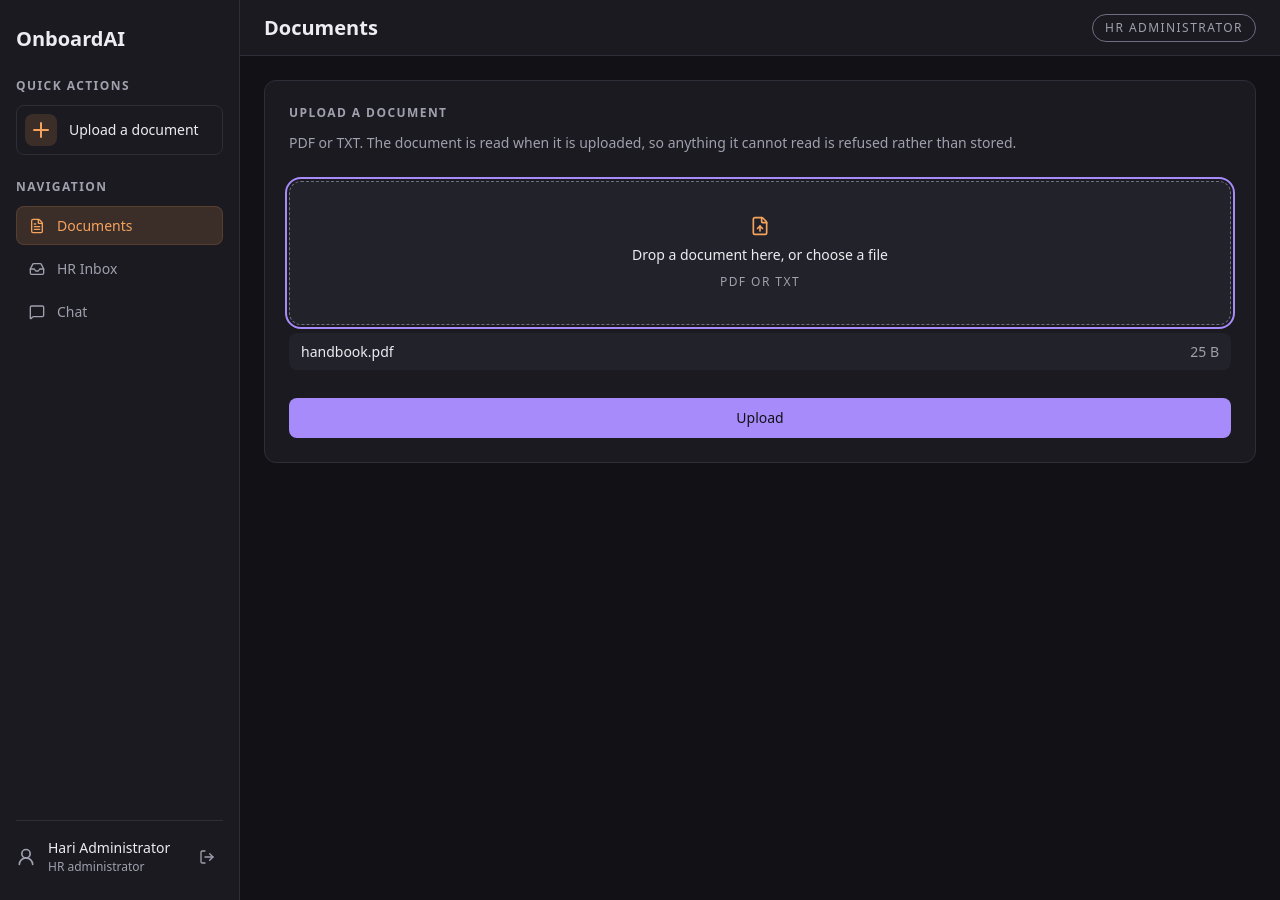
Scenario: once the bytes are up but the server is still reading › is not dragged back by a late progress event
Earlier steps of the test are not shown.
Click the button "Upload": point(760, 418) x1=289 y1=398 x2=1231 y2=438
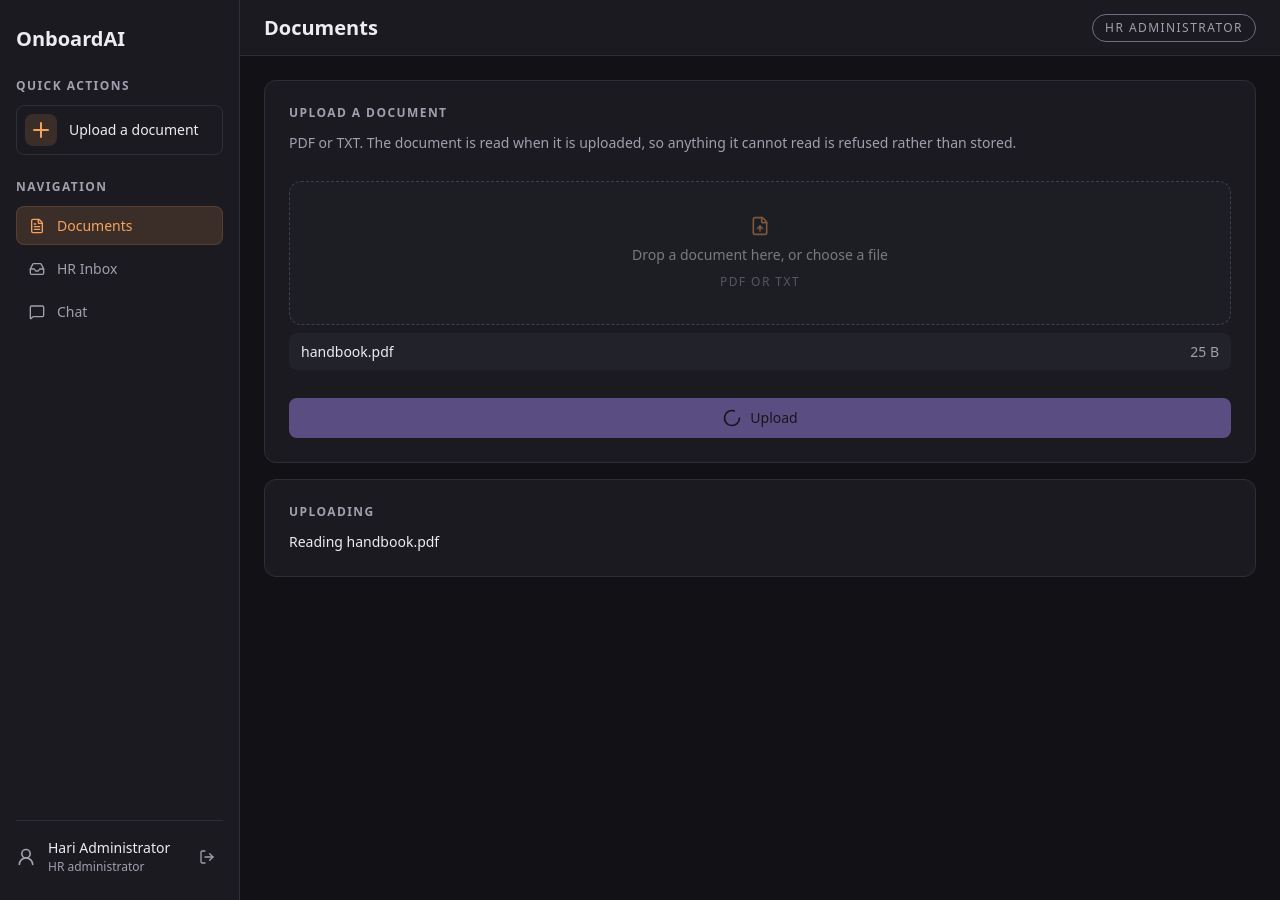
Expected: the text "Reading handbook.pdf" is shown, x1=289 y1=531 x2=439 y2=552
